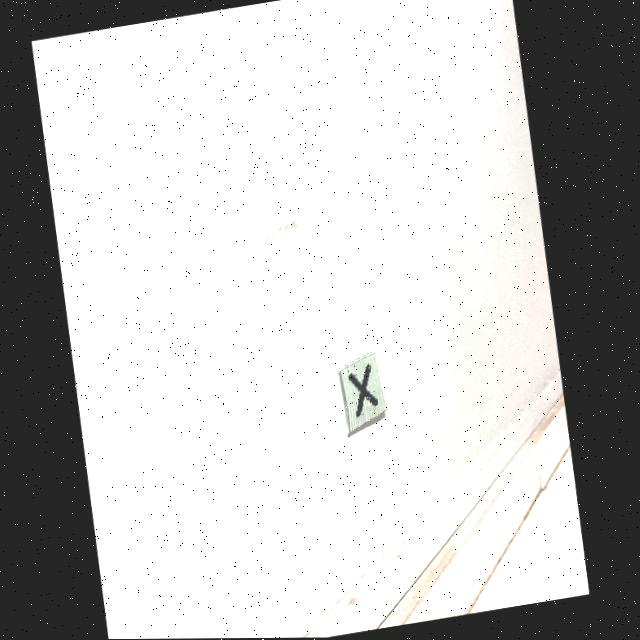X: (352, 365, 381, 417)
